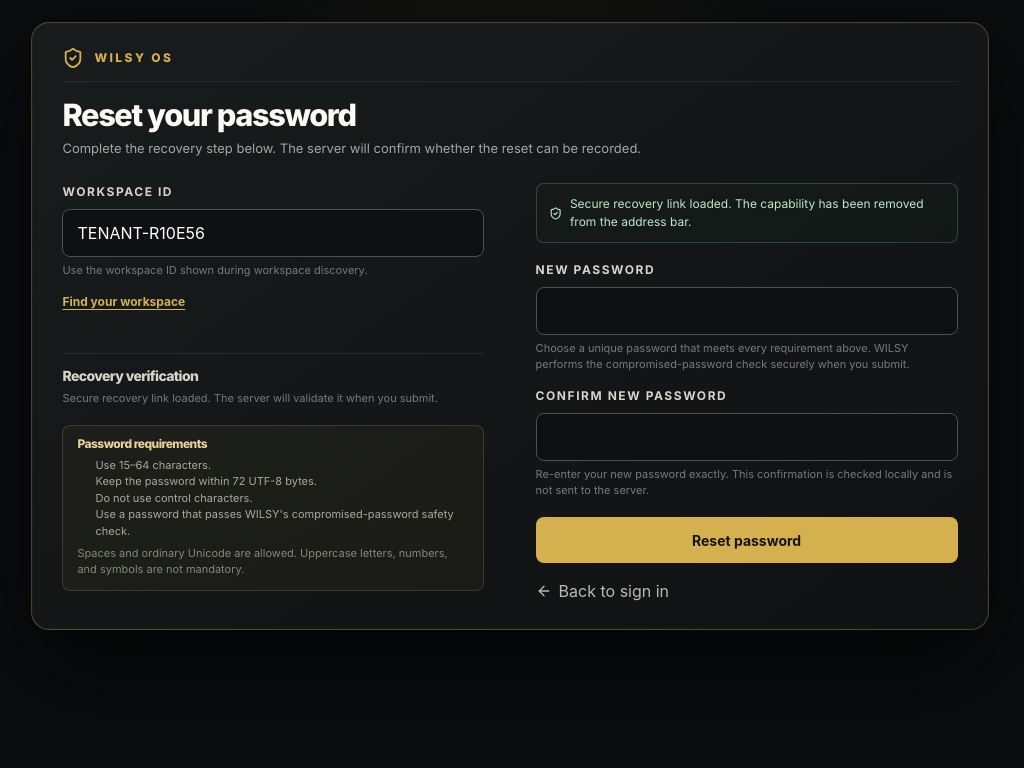
Test: R10E56 password recovery client flow certificate › renders bounded invalid-link feedback from the reset authority
Type "synthetic unique reset password" into the password field labelled "New password" at (747, 312), box [536, 288, 958, 336]
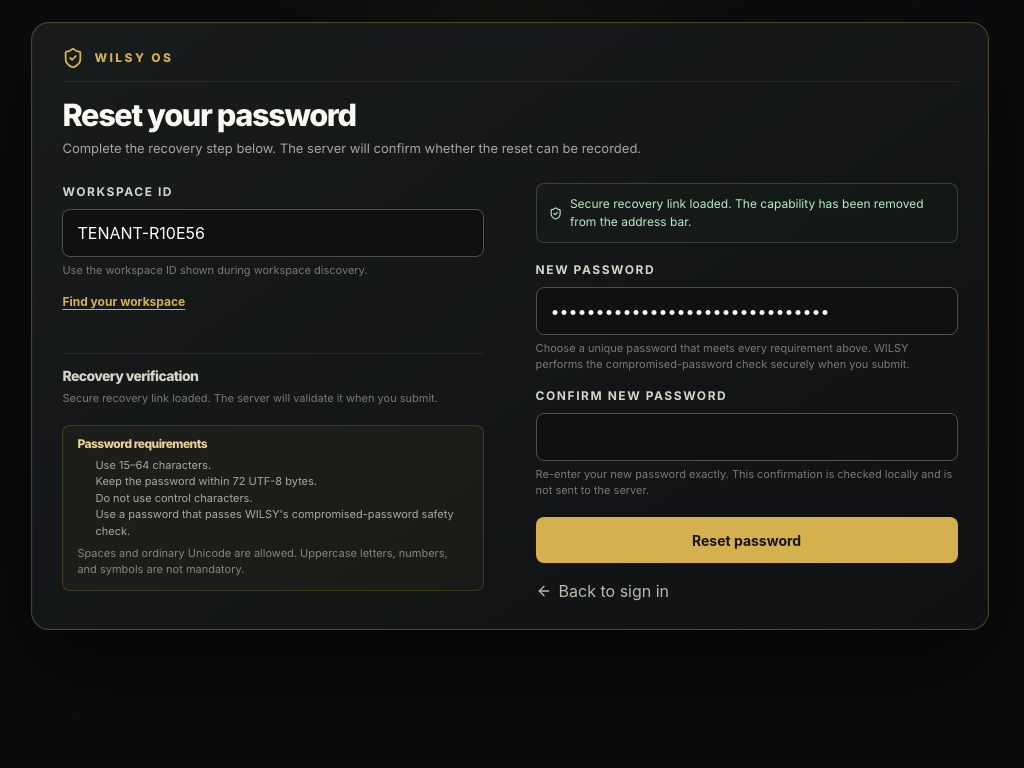
Type "synthetic unique reset password" into the password field labelled "Confirm new password" at (747, 437), box [536, 413, 958, 461]
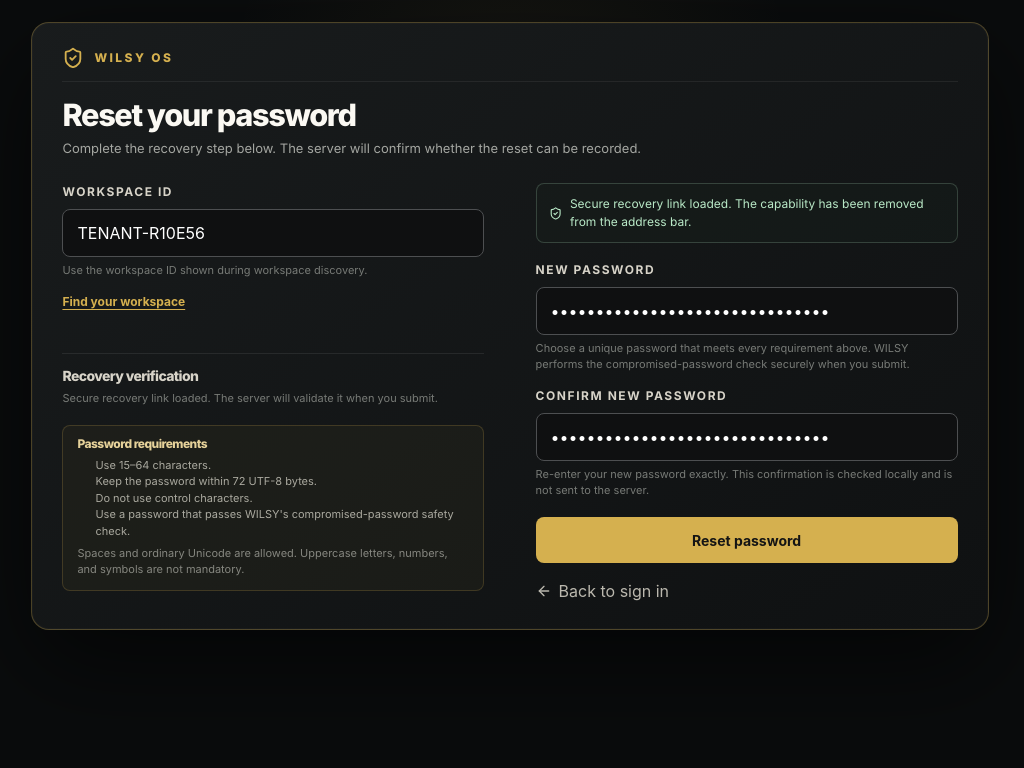
Click the button "Reset password" at (747, 540), box [536, 517, 958, 563]
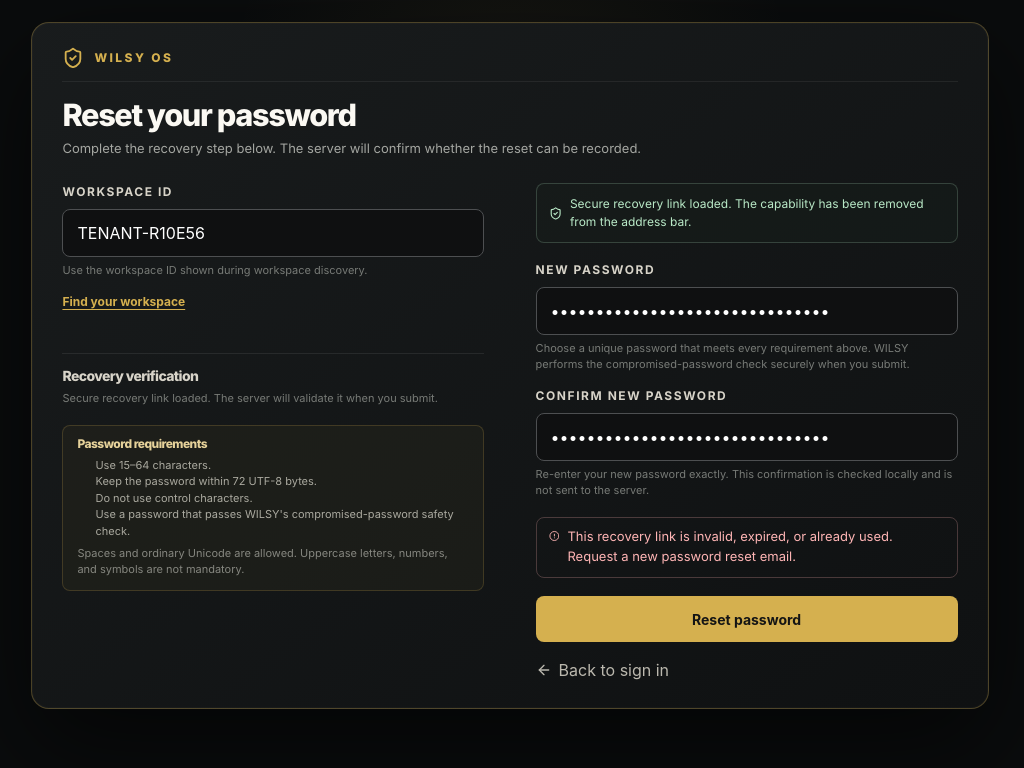
Result: the 2nd message shows "This recovery link is invalid, expired, or already used" at [567, 529, 893, 565]
